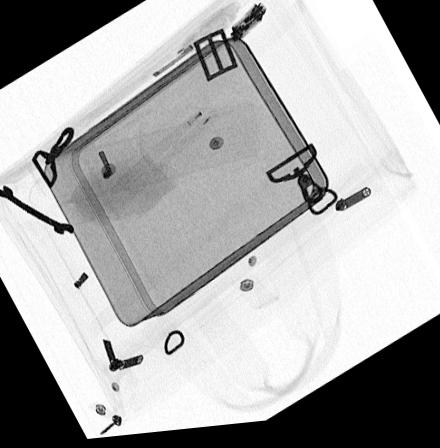Wrench: (0, 185, 75, 238)
